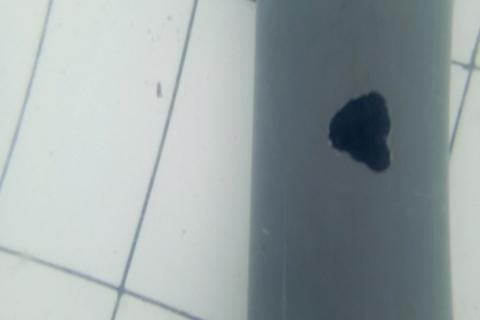kebocoran: (326, 87, 393, 177)
